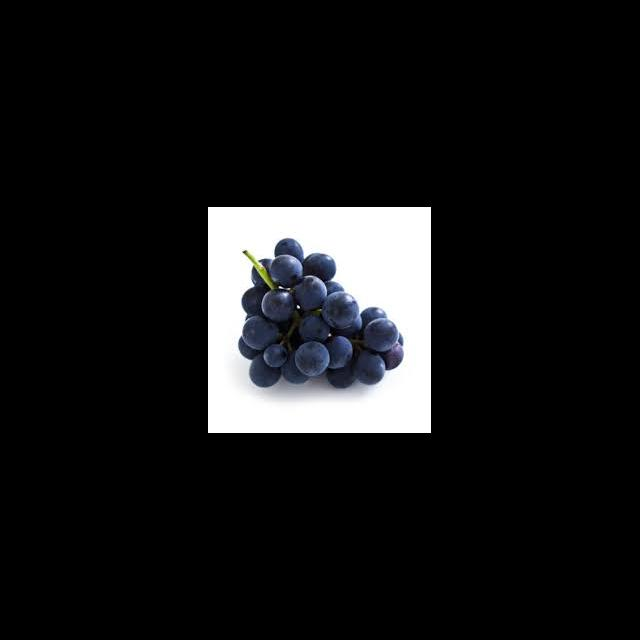grape: (238, 237, 404, 388)
